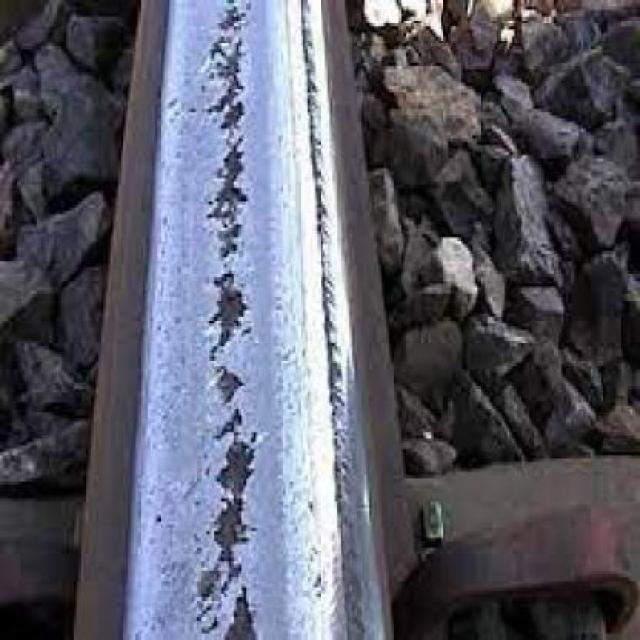defective: (56, 18, 458, 640)
